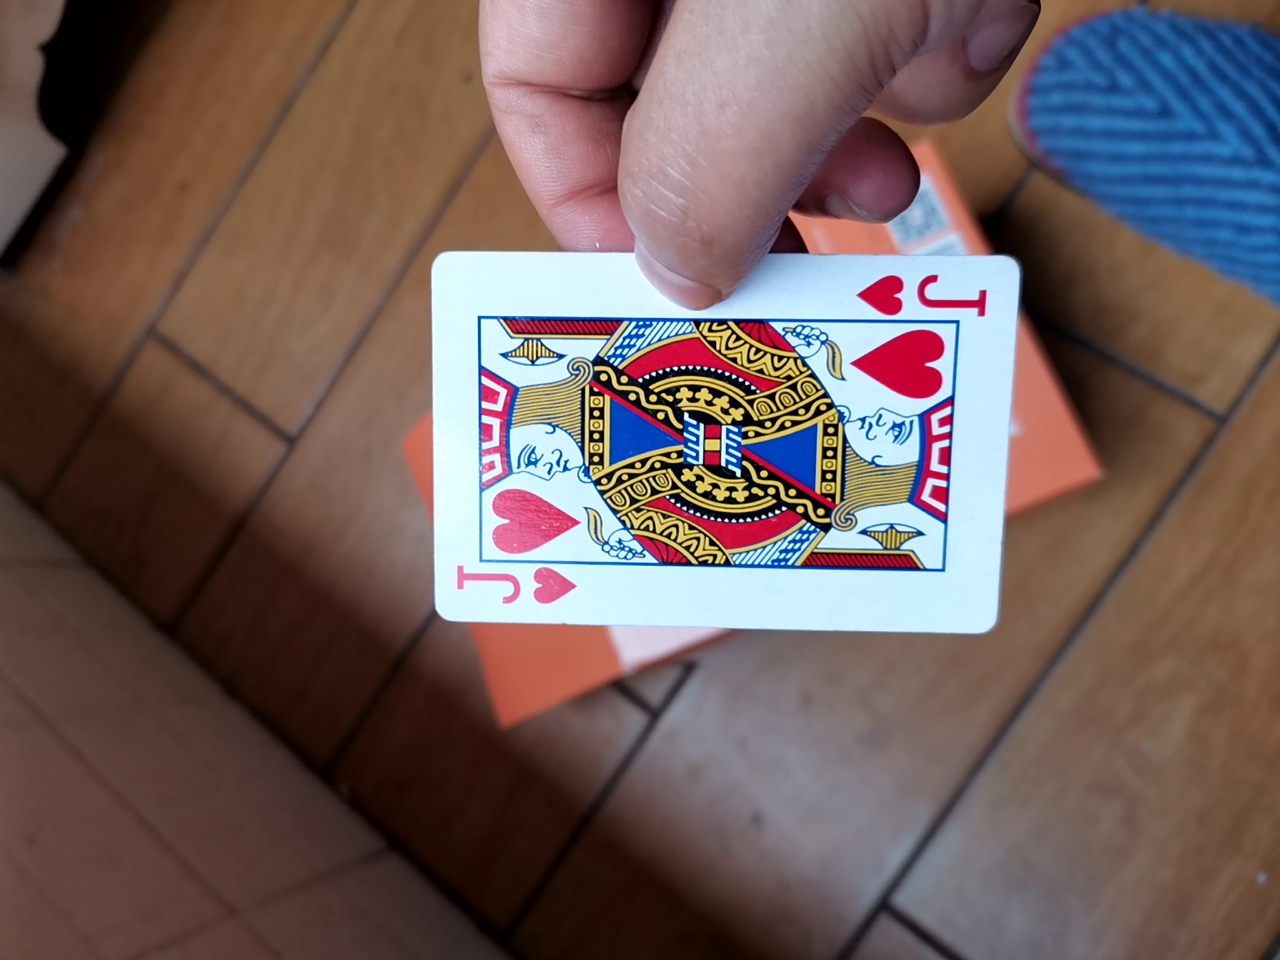hx j: (422, 234, 1021, 646)
